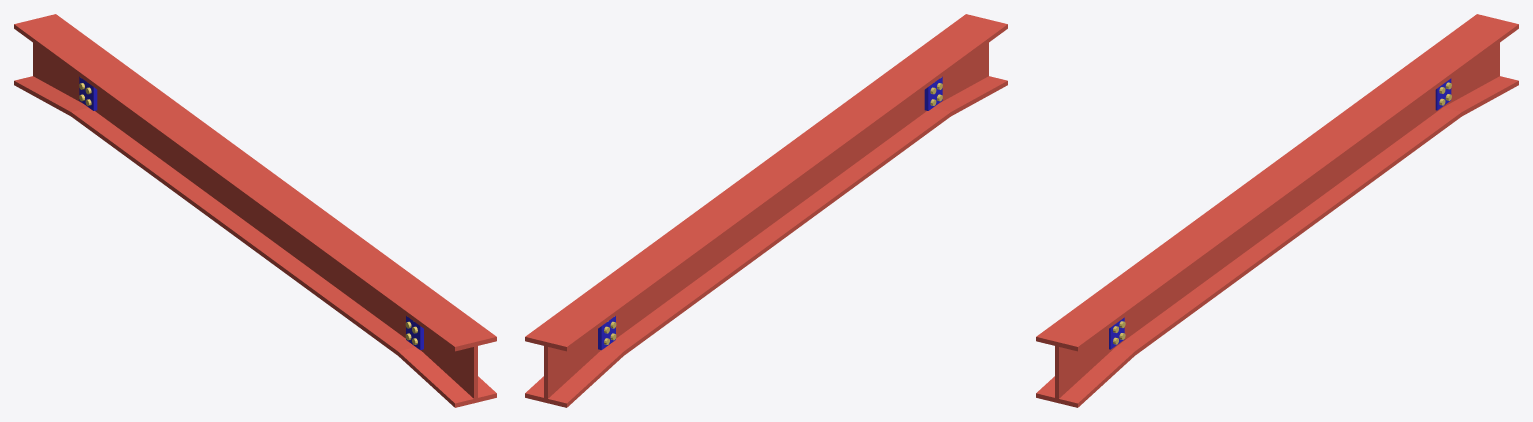
The model's file is steel_frame_A.glb.
3 views of the same model, side by side, from view 1: azimuth 30°, elevation 25°; view 2: azimuth 150°, elevation 25°; view 3: azimuth 330°, elevation 25° (orthographic).
Parts seen in each view (by area): view 1: Plane.006; view 2: Plane.006; view 3: Plane.006.
Part boxes in pixels (<box>): Plane.006: <box>14,14,496,407</box>; Plane.006: <box>525,14,1007,407</box>; Plane.006: <box>1036,14,1518,407</box>.
Bounding box in the file's own units: 0.4381 × 0.6101 × 8.
